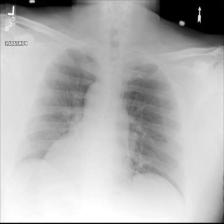normal: (14, 43, 192, 209)
